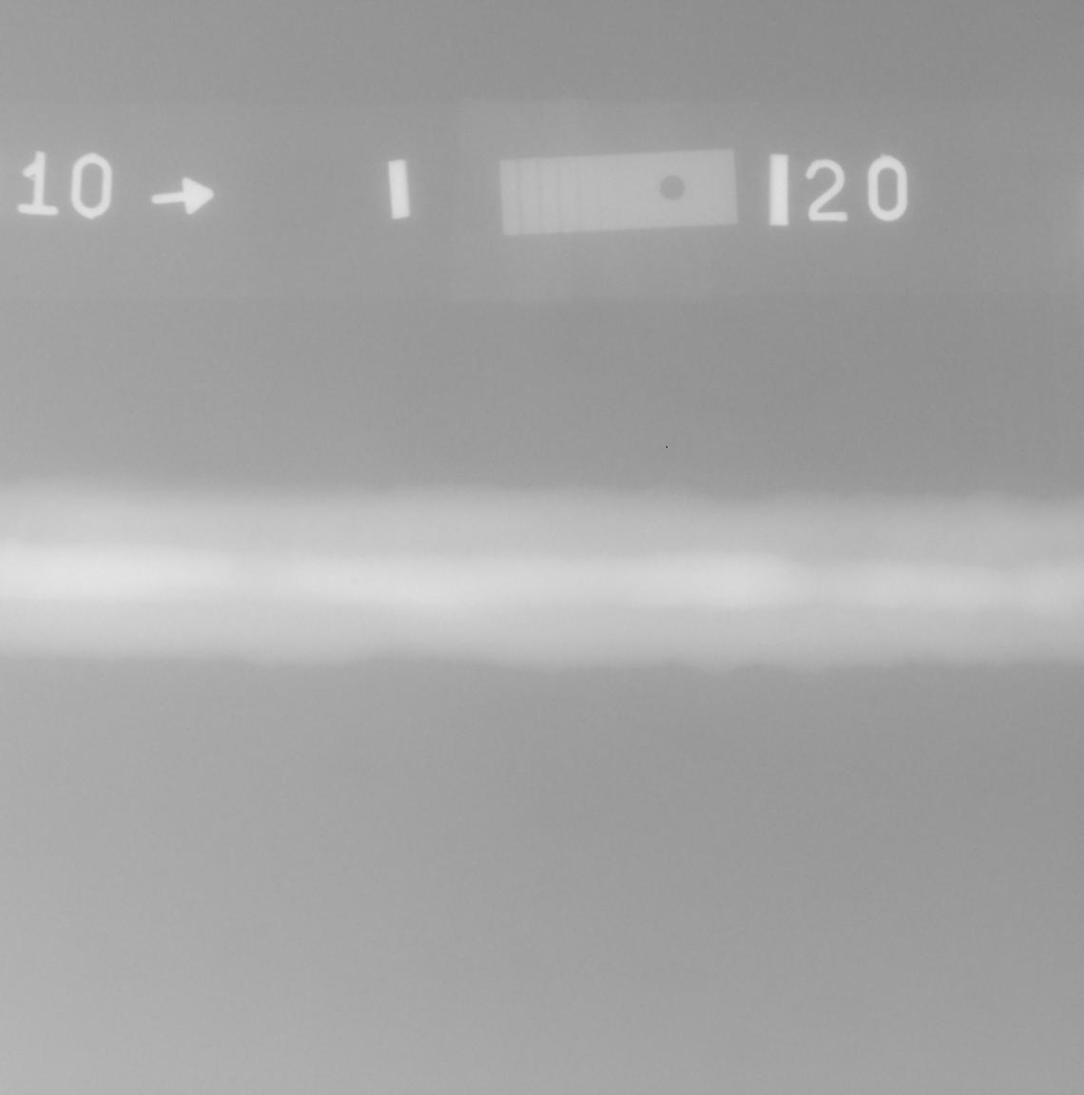Pore/Porosity: (351, 576, 359, 587)
Reference Standard 1: (500, 149, 737, 235)
